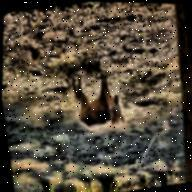boar: (68, 70, 128, 136)
